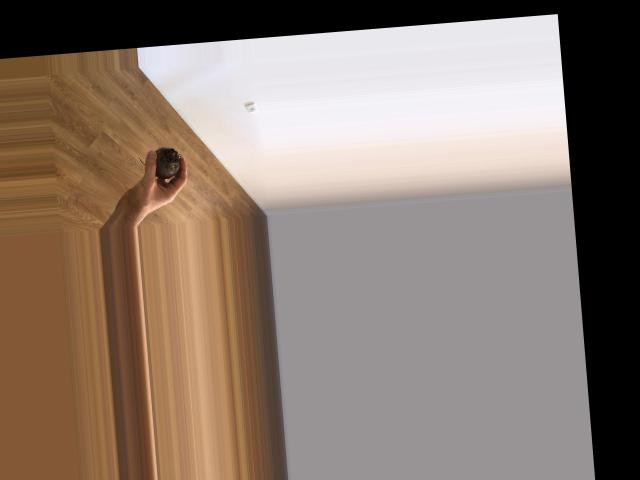beet: (138, 145, 182, 180)
